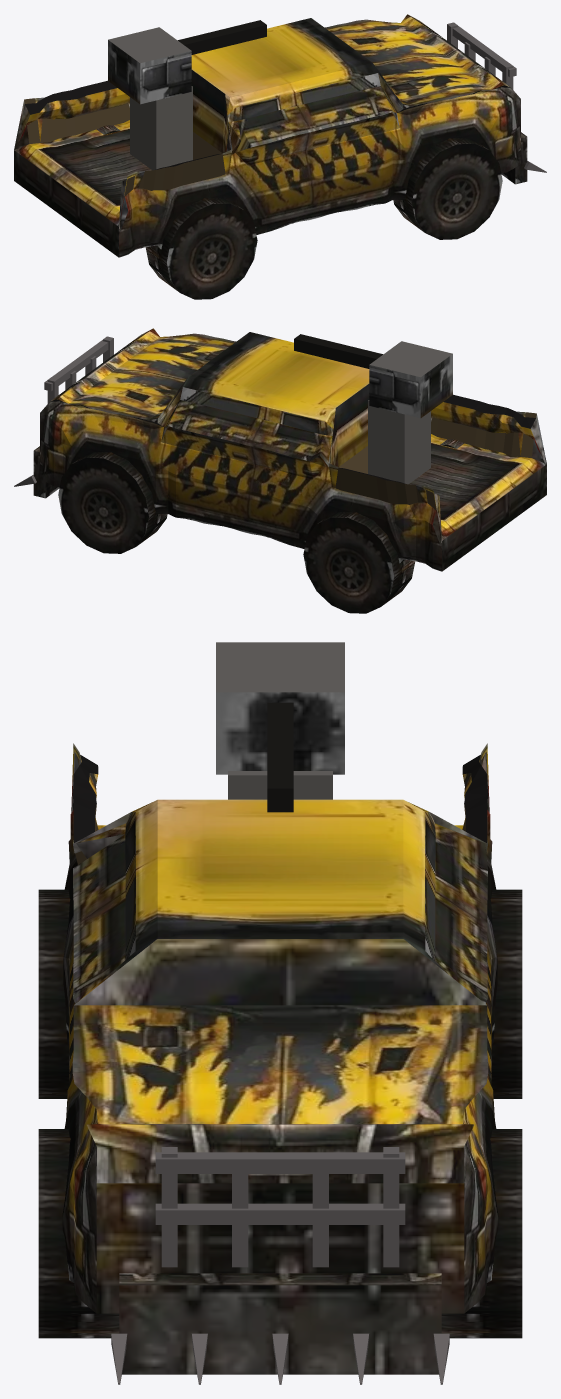
File: titan.glb
The picture shows the model from 3 angles, top to bottom: view 1: azimuth 30°, elevation 25°; view 2: azimuth 150°, elevation 25°; view 3: azimuth 270°, elevation 25°; orthographic projection. The views are drawn at different scales.
Parts seen in each view (by area): view 1: titan; view 2: titan; view 3: titan.
Part boxes in pixels (x1=…): titan: x1=14, y1=14, x2=546, y2=299; titan: x1=14, y1=328, x2=546, y2=613; titan: x1=38, y1=642, x2=522, y2=1384.
Bounding box in the file's own units: 5.1 × 2.33 × 2.43.
Materials: 1 (1 with a texture image).
